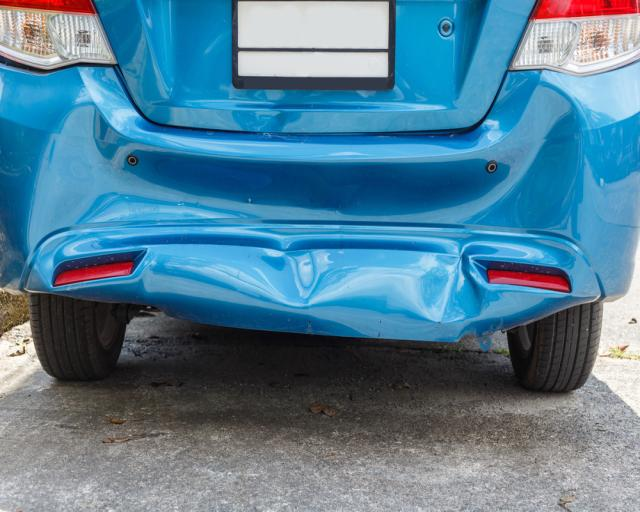dent: (29, 84, 583, 284), (416, 247, 484, 322), (258, 252, 354, 303)
